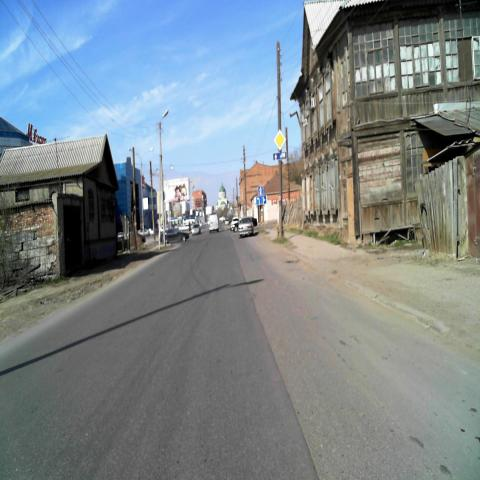6_15_1: (273, 151, 287, 160)
